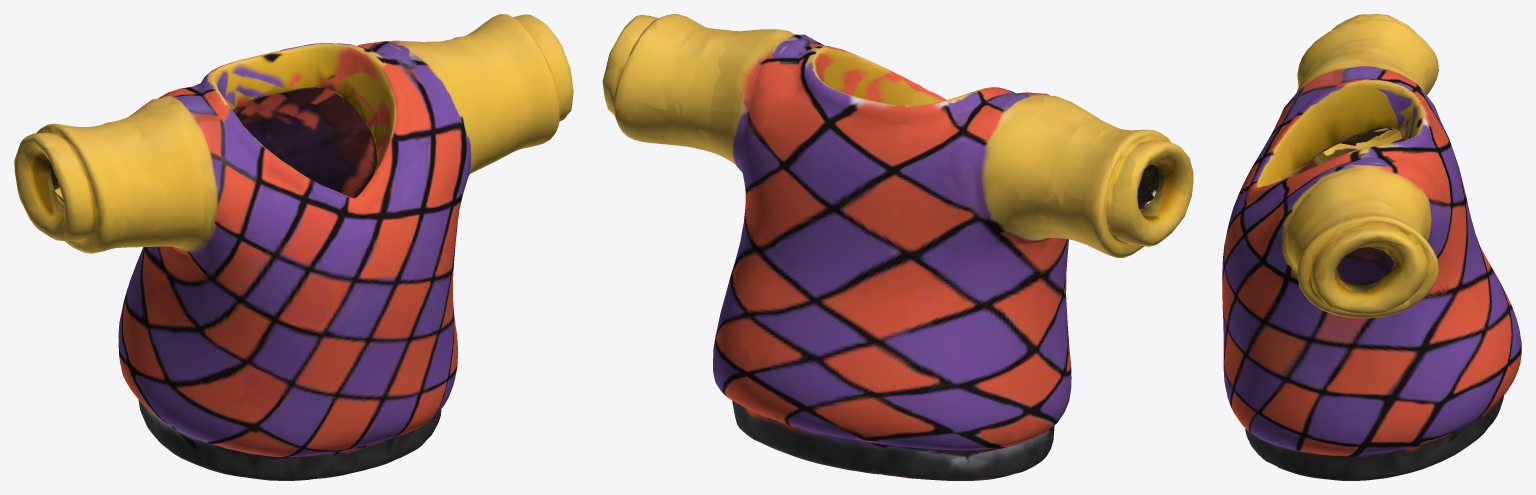
File: Sweater.glb
The picture shows the model from 3 angles, left to right: view 1: azimuth 30°, elevation 25°; view 2: azimuth 150°, elevation 25°; view 3: azimuth 270°, elevation 25°; orthographic projection. The views are drawn at different scales.
Visible parts, largest first — view 1: Sweater; view 2: Sweater; view 3: Sweater.
Part boxes in pixels (box(x1,y1,x2,y2)): Sweater: box(14, 14, 573, 480); Sweater: box(602, 14, 1193, 480); Sweater: box(1222, 14, 1521, 480).
Size of the model in its own units: 0.6339 by 0.4208 by 0.3594.
Materials: 1 (1 with a texture image).
